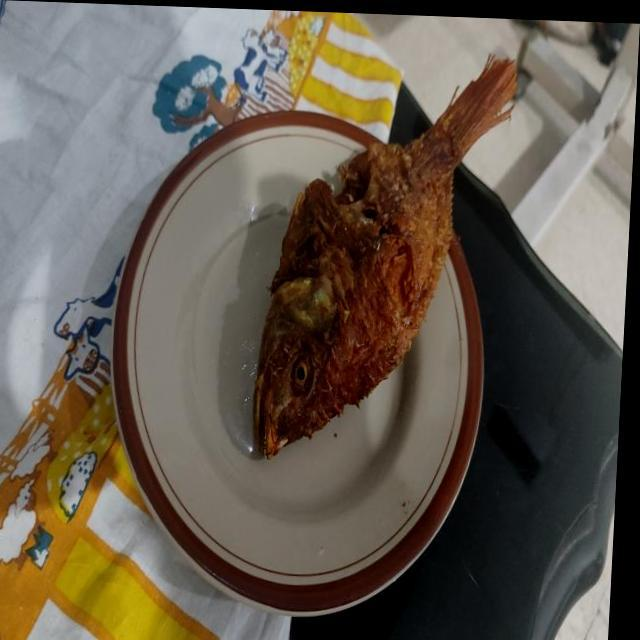ikan_mujair: (253, 58, 516, 458)
